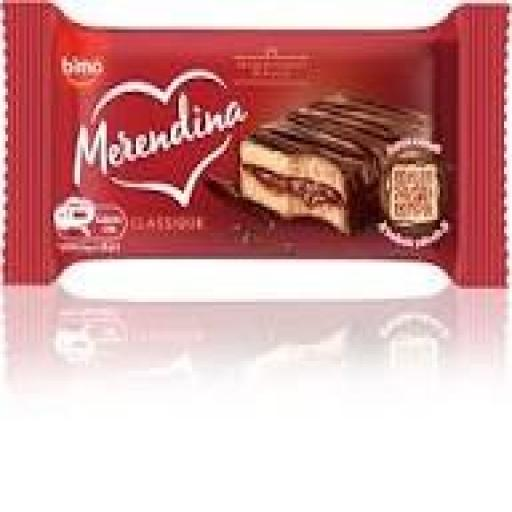merendina: (0, 0, 512, 287)
